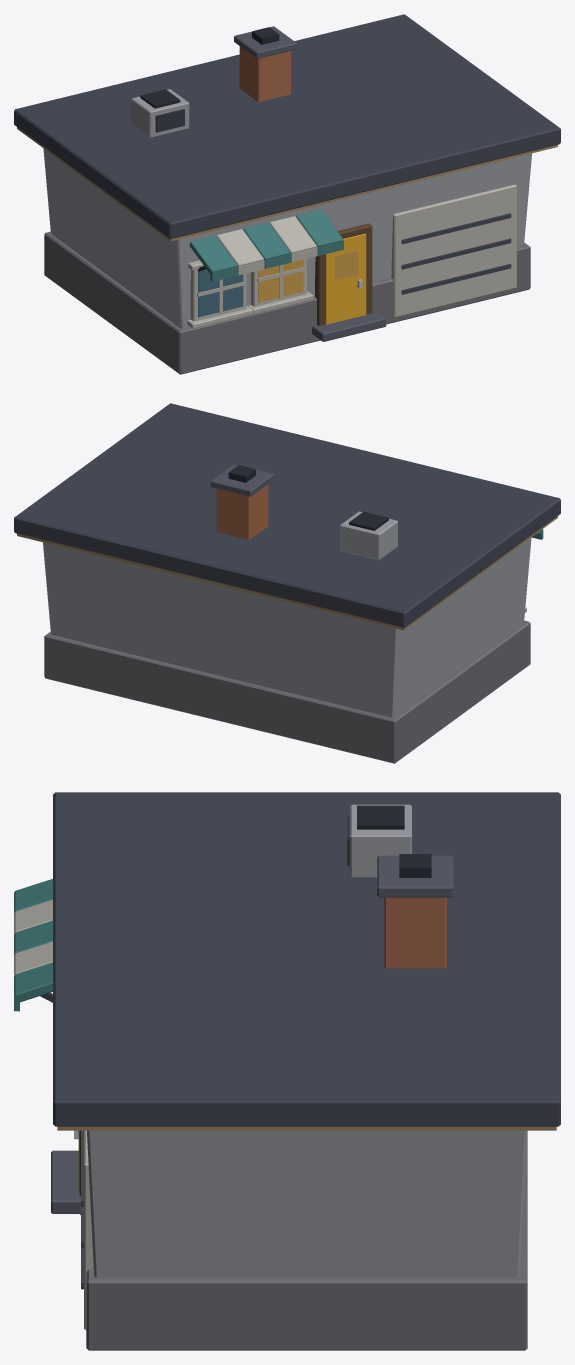
Rendered from Stylized_House_Suburban_C.fbx.
3 views of the same model, one above another, from view 1: azimuth 30°, elevation 25°; view 2: azimuth 150°, elevation 25°; view 3: azimuth 270°, elevation 25° (orthographic). The views are drawn at different scales.
Parts seen in each view (by area): view 1: Stylized_House_Suburban_C; view 2: Stylized_House_Suburban_C; view 3: Stylized_House_Suburban_C.
Boxes of the visible parts, x1,y1,x2,y2 form: Stylized_House_Suburban_C: (14, 14, 560, 374); Stylized_House_Suburban_C: (14, 403, 560, 763); Stylized_House_Suburban_C: (14, 792, 560, 1350).
Size of the model in its own units: 8.45 by 4.59 by 6.3.
